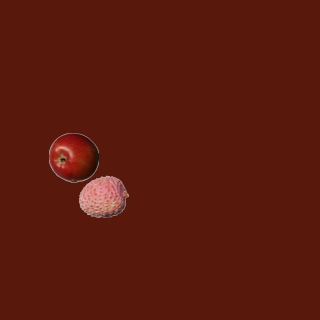Apple Braeburn: (48, 132, 98, 182)
Lychee: (78, 171, 128, 221)
